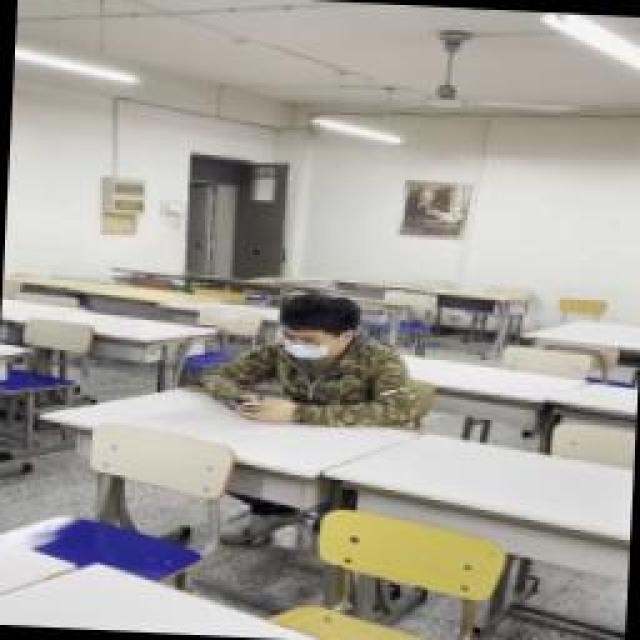phone: (195, 288, 427, 430)
